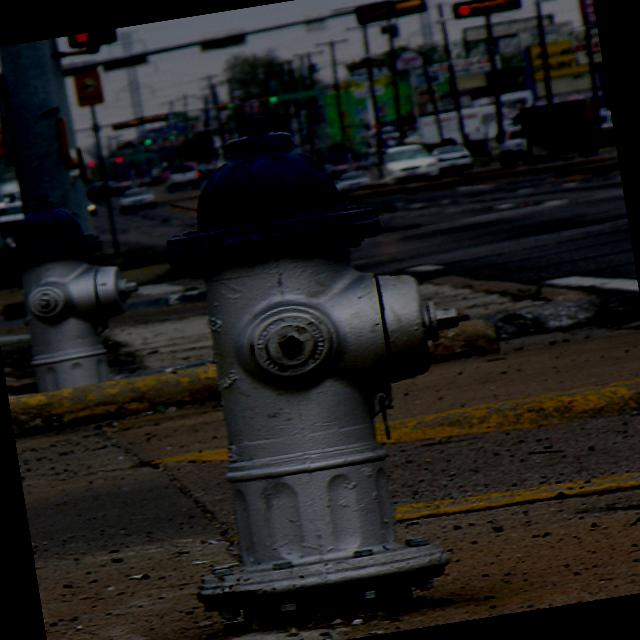Vehicle: (515, 98, 600, 166), (384, 140, 442, 188), (493, 121, 532, 172), (427, 138, 476, 176), (162, 162, 205, 195), (116, 185, 158, 215), (0, 195, 30, 236), (165, 161, 200, 193), (338, 168, 374, 192)
